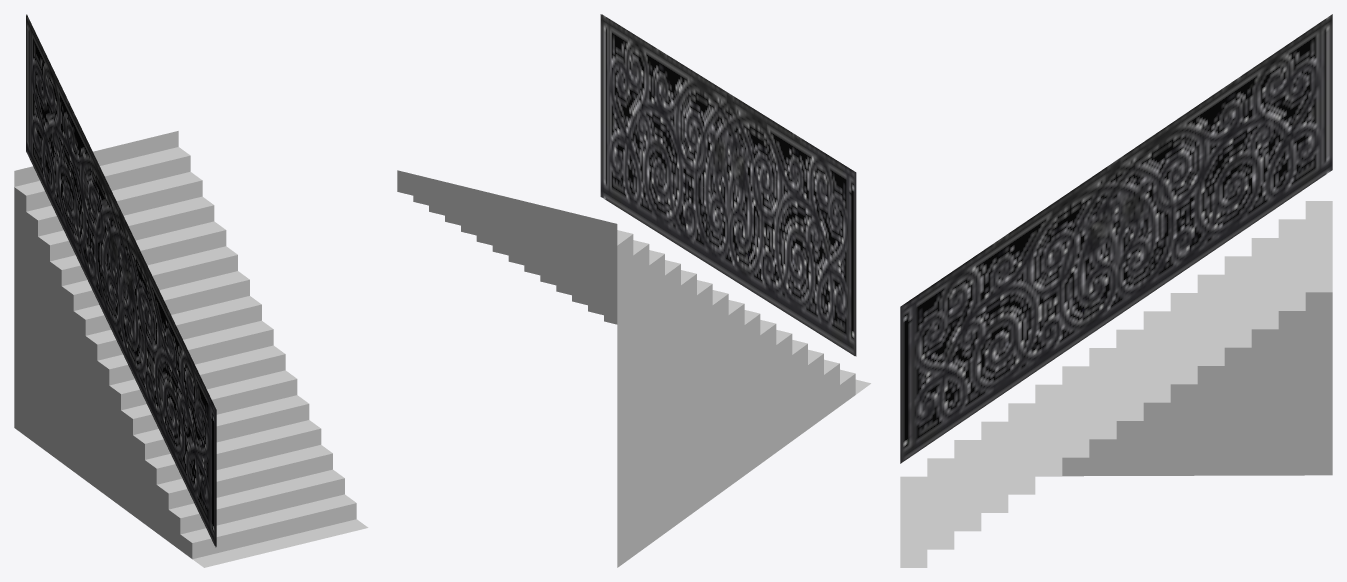
File: mansion_stair_cap_left.fbx
3 renders of one model, left to right at view 1: azimuth 30°, elevation 25°; view 2: azimuth 150°, elevation 25°; view 3: azimuth 270°, elevation 25°, orthographic. The views are drawn at different scales.
Visible parts, largest first — view 1: stairs_cap_right; view 2: stairs_cap_right; view 3: stairs_cap_right.
Part boxes in pixels (x1,y1,x2,y2): stairs_cap_right: [14, 14, 368, 567]; stairs_cap_right: [397, 14, 870, 567]; stairs_cap_right: [900, 14, 1332, 567].
Bounding box in the file's own units: 100 × 239 × 200.
